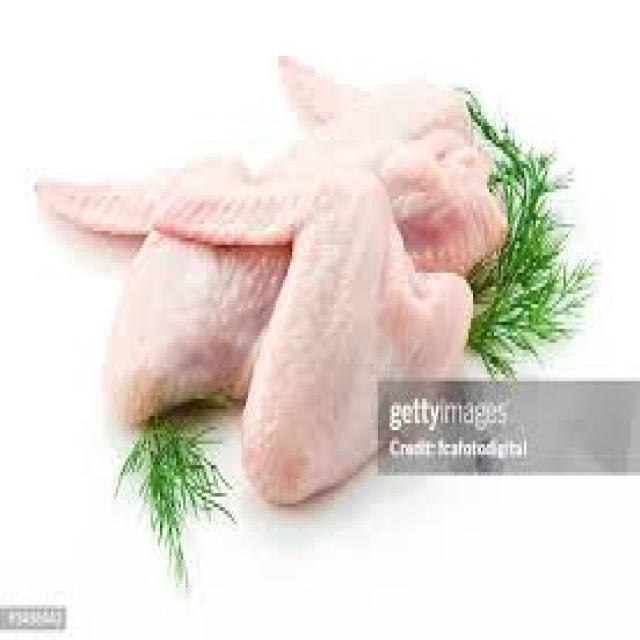wing: (166, 181, 474, 523), (32, 159, 298, 408), (271, 45, 488, 283)
